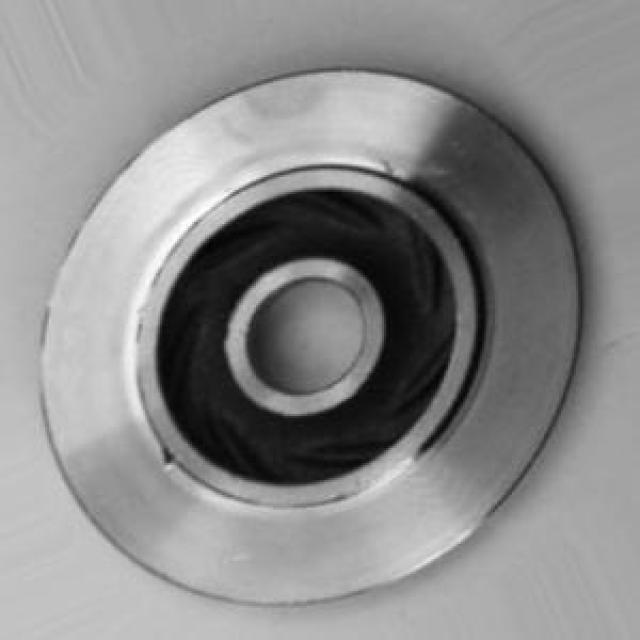Defect: (158, 442, 176, 473)
